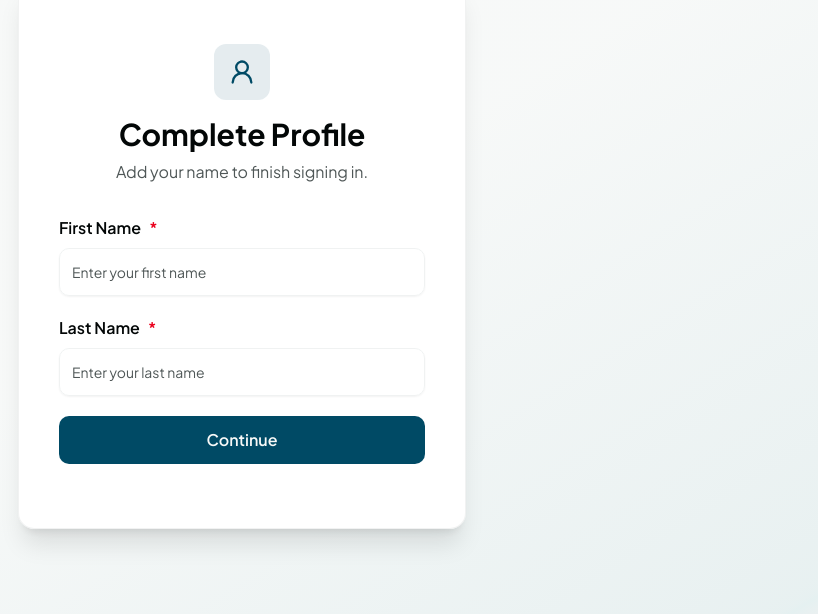
Test case: CompleteProfilePage › validates on change after field is touched
This screenshot has width=818, height=614.
Click the field labelled "First Name *".
click(242, 272)  # box [59,248,425,296]
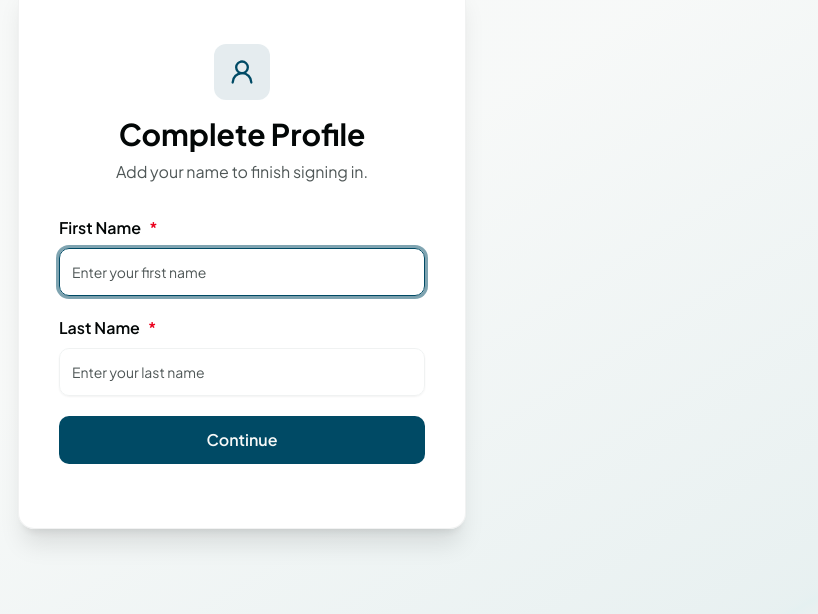
Press Tab
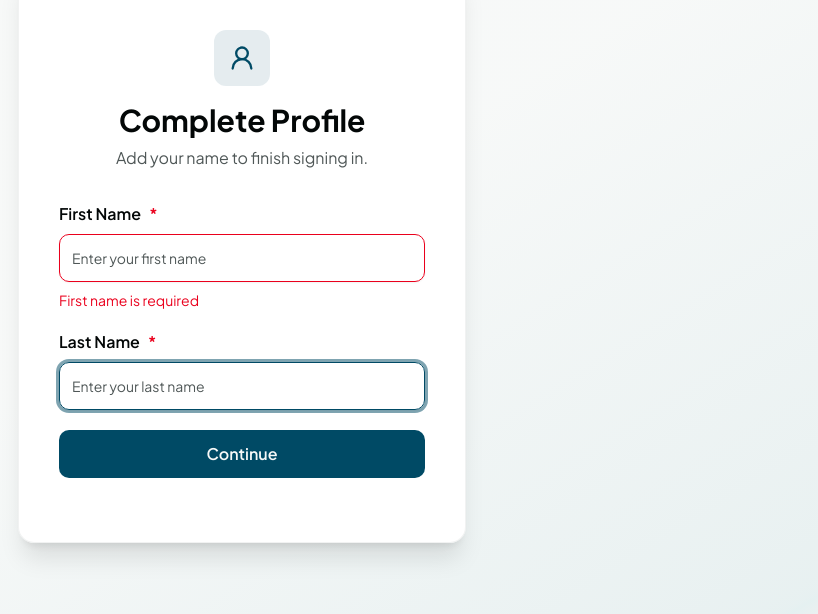
Now the text "First name is required" is shown, box [59,291,199,309]
Type "J" into the field labelled "First Name *".
click(242, 258); type("J")  # box [59,234,425,282]
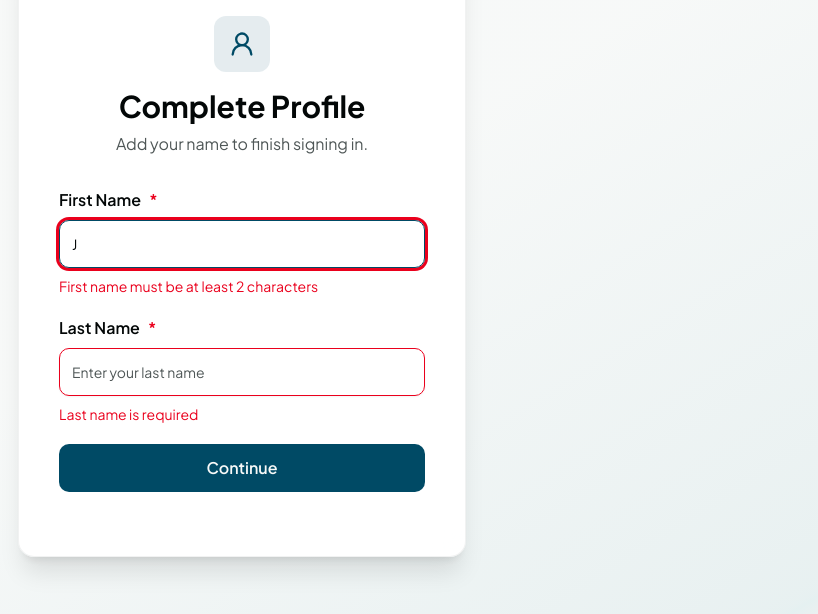
Now the text "First name must be at least 2 characters" is shown, box [59,277,318,295]
Replace the text in the field labelled "First Name *" with "John" at (242, 244), box [59,220,425,268]
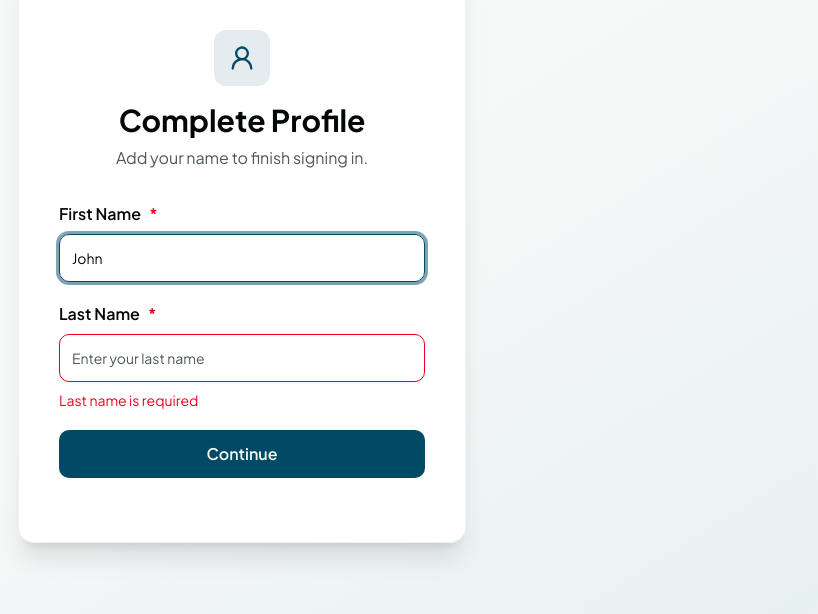
Expected: the text "First name must be at least 2 characters" is not shown
Now the text "First name is required" is gone
